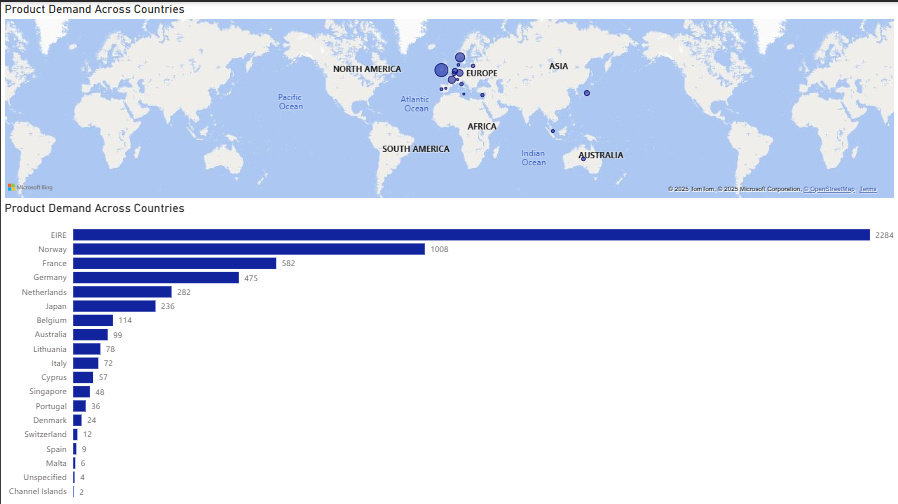

The page's visual inventory and layout, read from the dashboard file:
{"tool":"powerbi","page":{"name":"Question 4","canvas":[1280,720],"ordinal":3},"visuals":[{"type":"map","title":"Product Demand Across Countries","fields":{"Category":["Online Retail.Country"],"Size":["Sum(Online Retail.Quantity)"]},"box":[0,0,1279.7,283.9],"z":0},{"type":"clusteredBarChart","title":"Product Demand Across Countries","fields":{"Category":["Online Retail.Country"],"Y":["Sum(Online Retail.Quantity)"]},"box":[0,283.9,1279.7,436.1],"z":1000}]}

Visuals, with their boxes in screenshot pixels (x1, y1, x2, y2), scaled from the page's 1280x720 canvas onto the 898x504 screenshot:
"Product Demand Across Countries" map: l=0, t=0, r=897, b=199
"Product Demand Across Countries" clusteredBarChart: l=0, t=199, r=897, b=503
